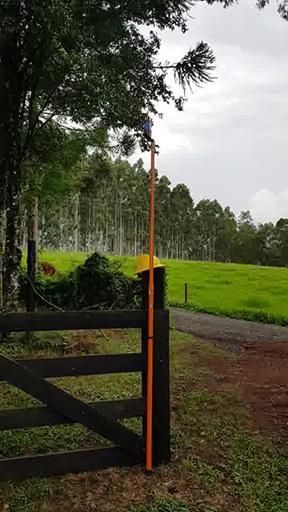Vara_Manobra: (143, 142, 157, 471)
